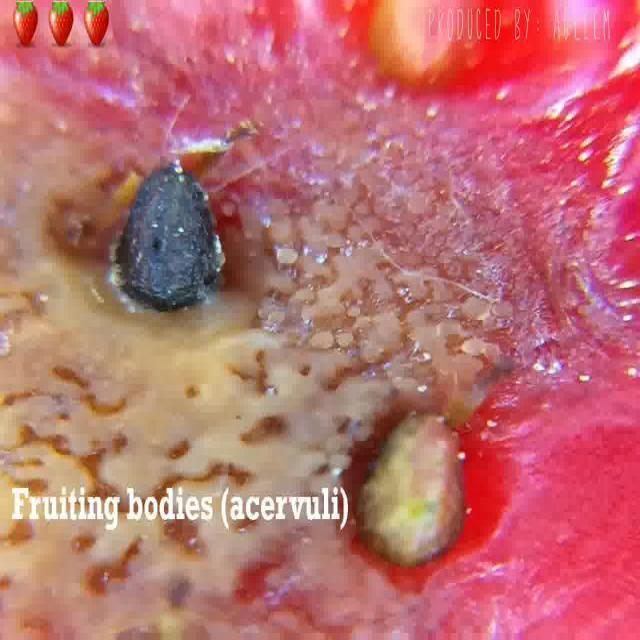Mancha negra Antracnosis: (49, 80, 640, 624)
